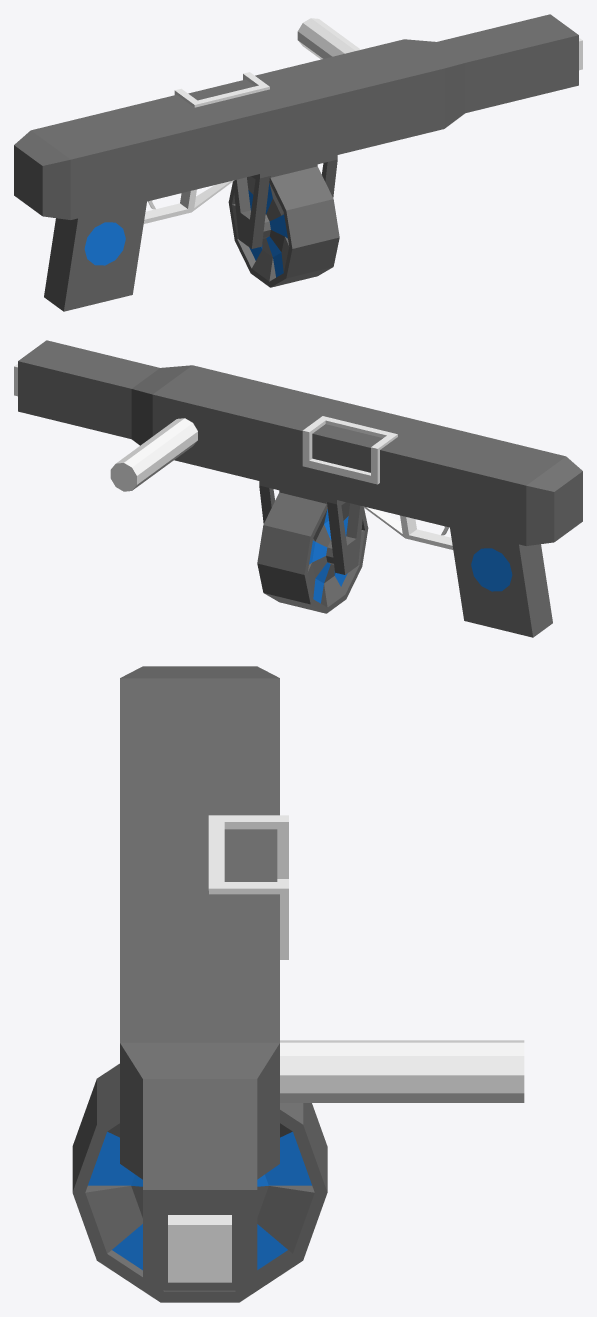
Rendered from Test_BigShotgun.fbx.
3 renders of one model, top to bottom at view 1: azimuth 30°, elevation 25°; view 2: azimuth 150°, elevation 25°; view 3: azimuth 270°, elevation 25°, orthographic. The views are drawn at different scales.
Visible parts, largest first — view 1: Pistol, Pistol.001, PistolReload; view 2: Pistol, Pistol.001, PistolReload; view 3: Pistol, Pistol.001, PistolReload.
Boxes of the visible parts, x1,y1,x2,y2 form: Pistol: [14, 14, 582, 311]; Pistol.001: [228, 166, 339, 287]; PistolReload: [188, 79, 254, 100]; Pistol: [14, 340, 582, 637]; Pistol.001: [257, 492, 368, 613]; PistolReload: [312, 424, 382, 472]; Pistol: [120, 666, 524, 1290]; Pistol.001: [72, 1063, 327, 1302]; PistolReload: [224, 829, 277, 881].
Bounding box in the file's own units: 158 × 52.47 × 56.71.
